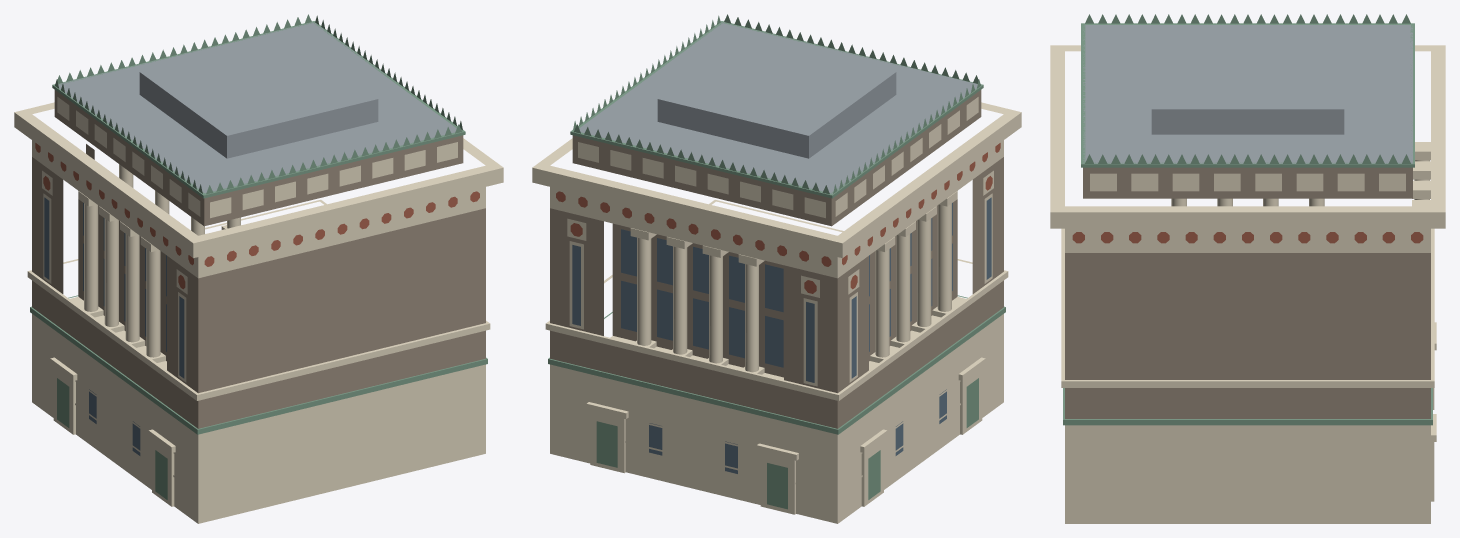
Rendered from nyc-brooklyn-masonic-temple.glb.
3 renders of one model, left to right at view 1: azimuth 30°, elevation 25°; view 2: azimuth 150°, elevation 25°; view 3: azimuth 270°, elevation 25°, orthographic. The views are drawn at different scales.
Parts seen in each view (by area): view 1: Brooklyn Masonic Temple; view 2: Brooklyn Masonic Temple; view 3: Brooklyn Masonic Temple.
Part boxes in pixels (left/top/right/bottom): Brooklyn Masonic Temple: left=14, top=14, right=503, bottom=523; Brooklyn Masonic Temple: left=532, top=14, right=1021, bottom=523; Brooklyn Masonic Temple: left=1050, top=14, right=1445, bottom=523.
Bounding box in the file's own units: 32.8 × 34.6 × 32.8.
